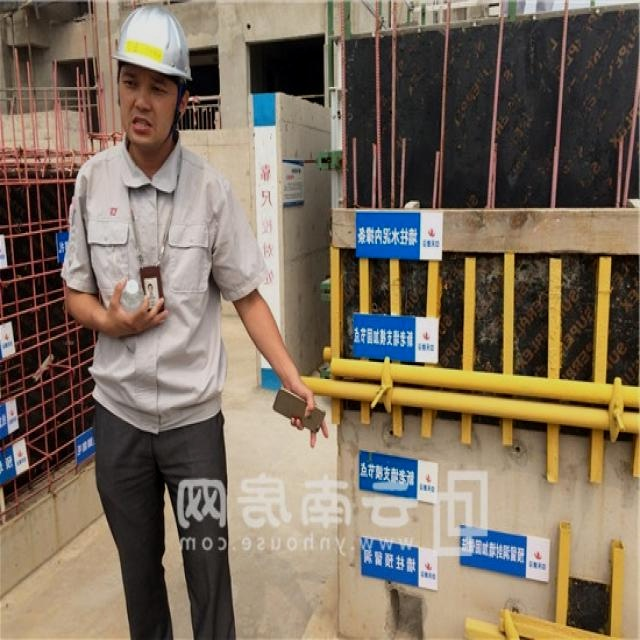Con_Casco: (113, 10, 188, 130)
Sin_Chaleco: (79, 157, 223, 426)
